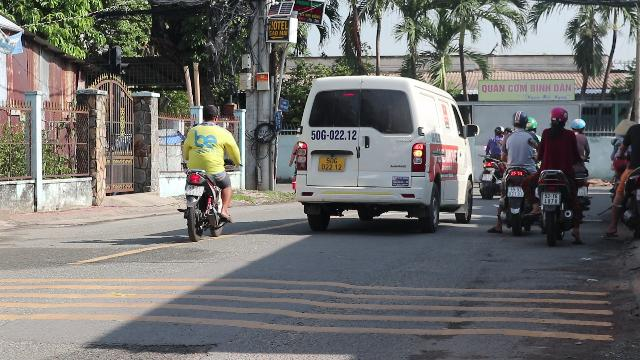helmet: (200, 104, 218, 124)
licenseplate: (548, 106, 568, 127), (510, 110, 528, 130), (569, 117, 585, 131), (525, 114, 537, 130), (525, 120, 537, 130)
motorcyclist: (176, 103, 237, 239), (534, 105, 590, 243), (494, 109, 540, 235)
nohelmet: (541, 192, 559, 204), (185, 185, 203, 195), (508, 187, 522, 195)
